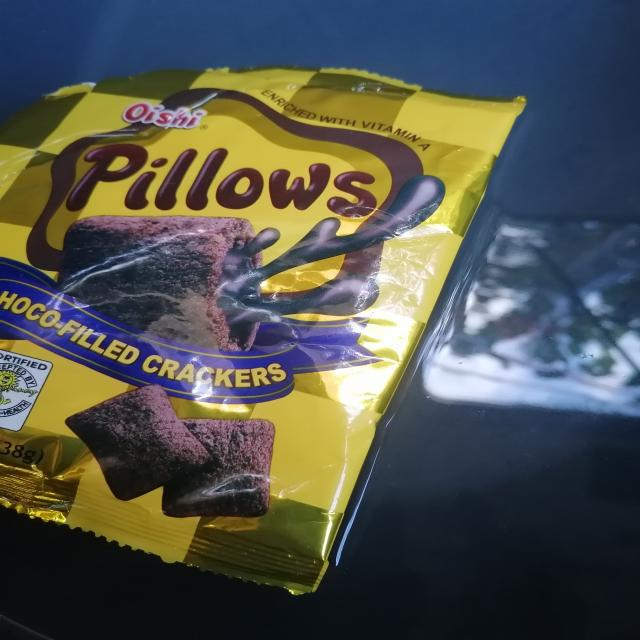Plastic Wrapper: (0, 65, 638, 594)
